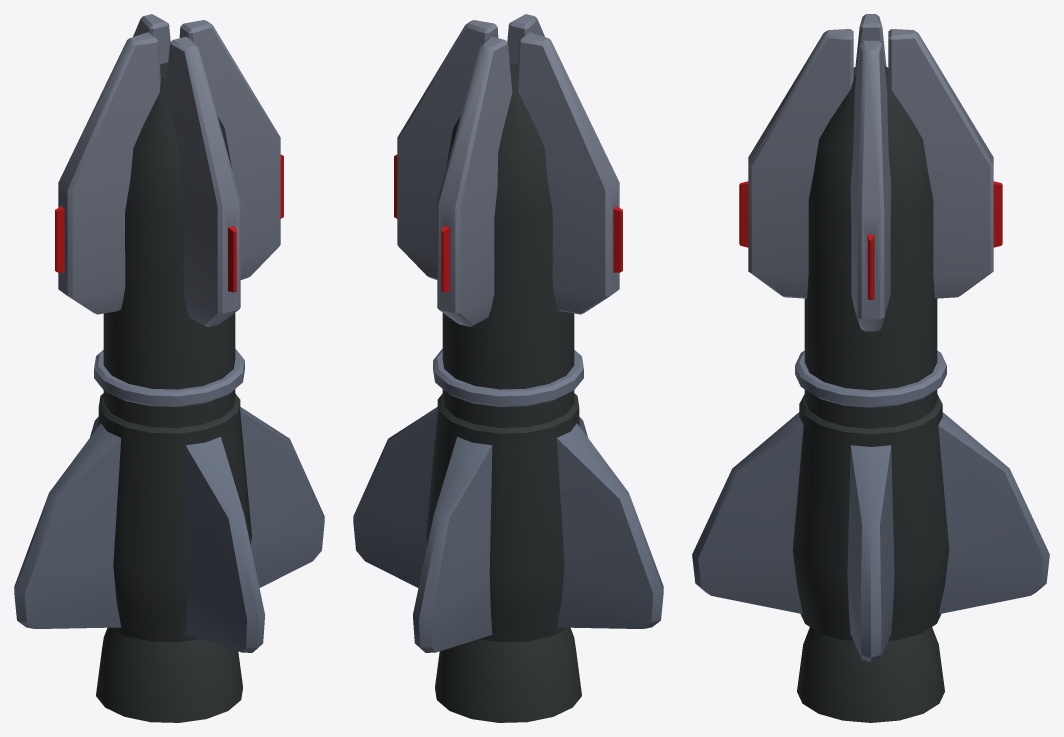
File: MissileMine.fbx
3 renders of one model, left to right at view 1: azimuth 30°, elevation 25°; view 2: azimuth 150°, elevation 25°; view 3: azimuth 270°, elevation 25°, orthographic.
Parts seen in each view (by area): view 1: MissileMine; view 2: MissileMine; view 3: MissileMine.
Part boxes in pixels (x1,y1,x2,y2): MissileMine: [14, 14, 324, 722]; MissileMine: [353, 14, 663, 722]; MissileMine: [692, 14, 1049, 722].
Size of the model in its own units: 251 by 512 by 251.
